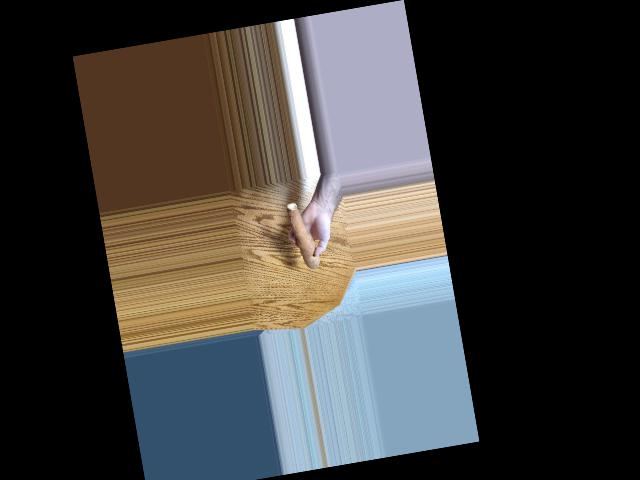sweet_potato: (287, 197, 317, 274)
